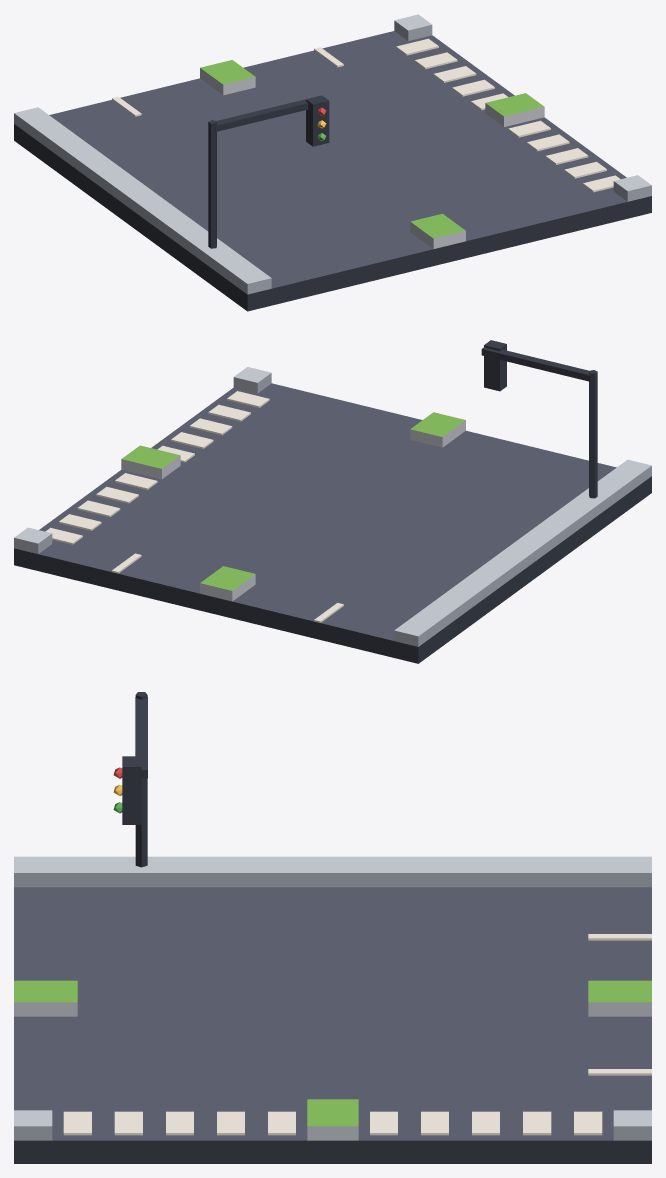
The model's file is avenue_t.glb.
3 views of the same model, one above another, from view 1: azimuth 30°, elevation 25°; view 2: azimuth 150°, elevation 25°; view 3: azimuth 270°, elevation 25° (orthographic). The views are drawn at different scales.
Parts seen in each view (by area): view 1: avenue_t; view 2: avenue_t; view 3: avenue_t.
Boxes of the visible parts, x1,y1,x2,y2 form: avenue_t: (14, 14, 651, 311); avenue_t: (14, 340, 651, 663); avenue_t: (14, 692, 651, 1163).
Size of the model in its own units: 1 by 0.36 by 1.
